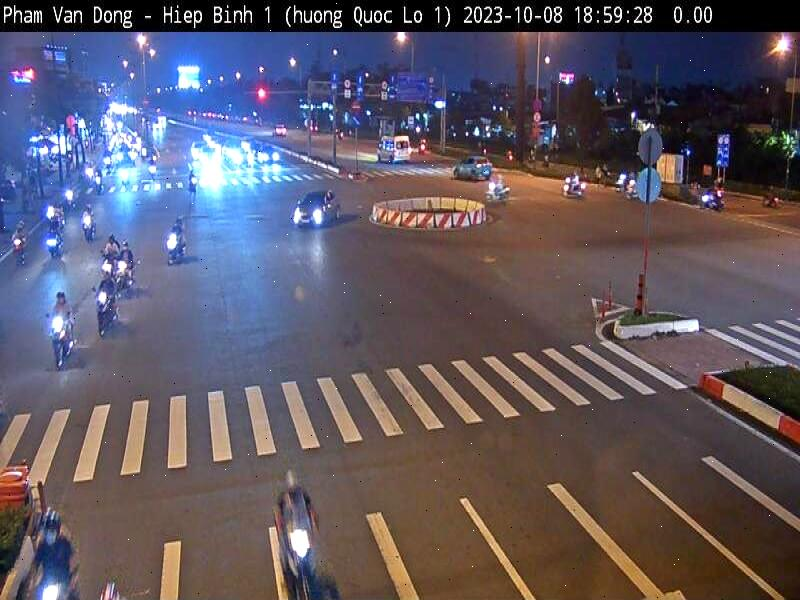car: (293, 191, 339, 229), (454, 156, 496, 180), (378, 137, 412, 165)
motorcycle: (41, 314, 86, 361), (159, 230, 196, 268), (95, 289, 120, 334), (5, 233, 33, 269), (112, 259, 140, 290), (482, 179, 515, 205), (42, 227, 68, 260), (96, 252, 115, 283), (564, 174, 587, 199), (84, 215, 101, 238)
